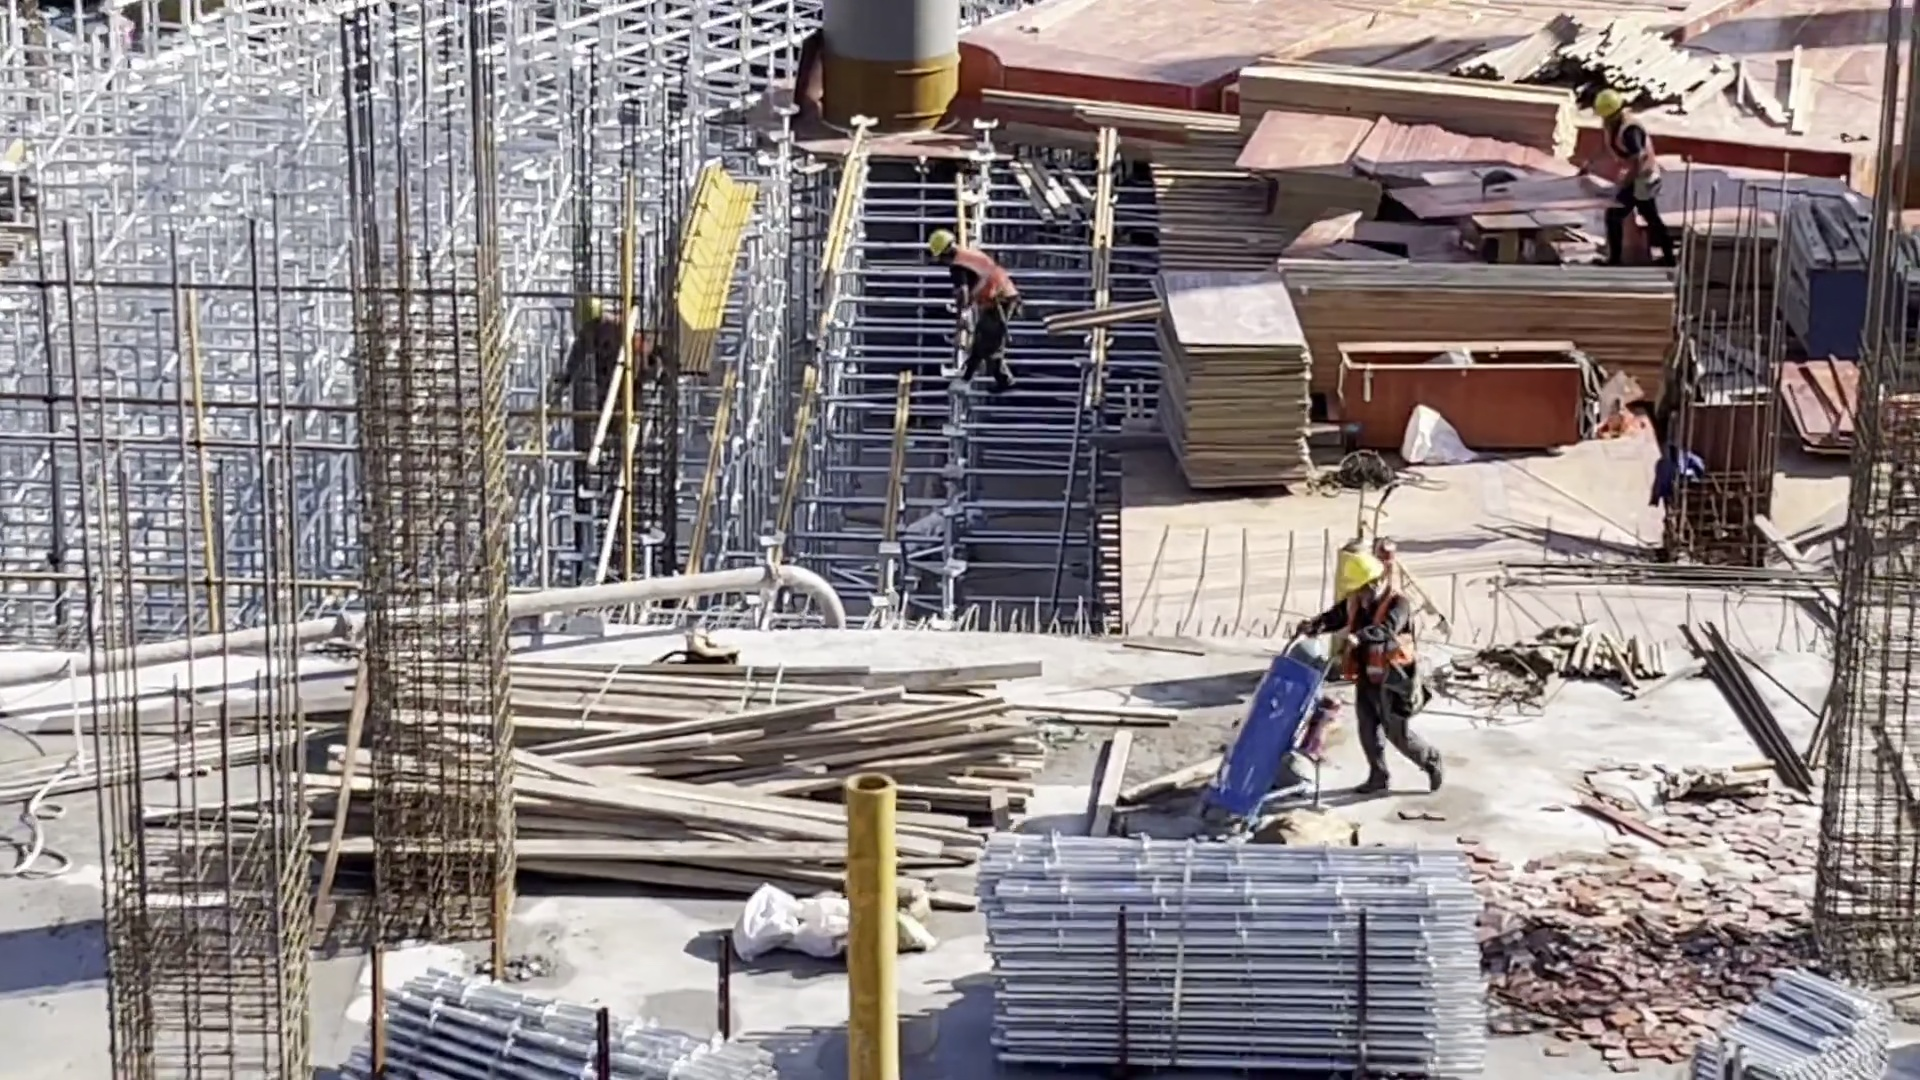board: (1153, 266, 1319, 486), (1251, 119, 1374, 234)
cutter: (1390, 157, 1592, 254)
helmet: (1339, 553, 1388, 586), (1594, 89, 1623, 118), (925, 229, 955, 257)
person: (1309, 548, 1453, 788), (924, 227, 1028, 397), (1590, 89, 1672, 271)
rebar: (1679, 615, 1820, 793), (1497, 551, 1842, 604)
scaffold: (969, 833, 1488, 1080), (335, 962, 779, 1080), (1683, 961, 1893, 1080)
vest: (1342, 594, 1416, 692), (1600, 118, 1663, 195), (953, 242, 1015, 308)
wood: (515, 658, 1031, 903), (1442, 8, 1825, 127), (1280, 249, 1676, 343), (1242, 52, 1569, 142)
